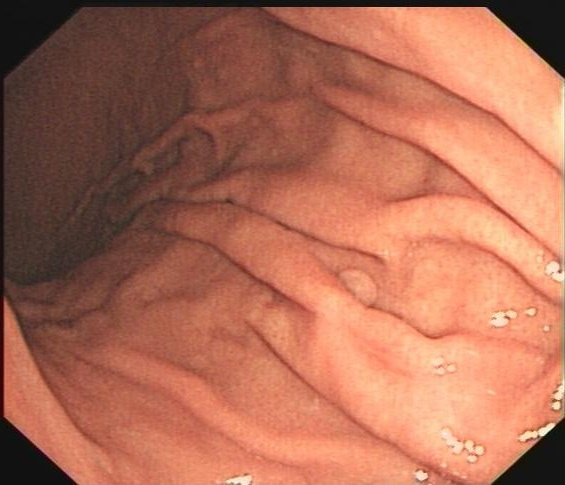Polyp: (325, 259, 395, 314)
